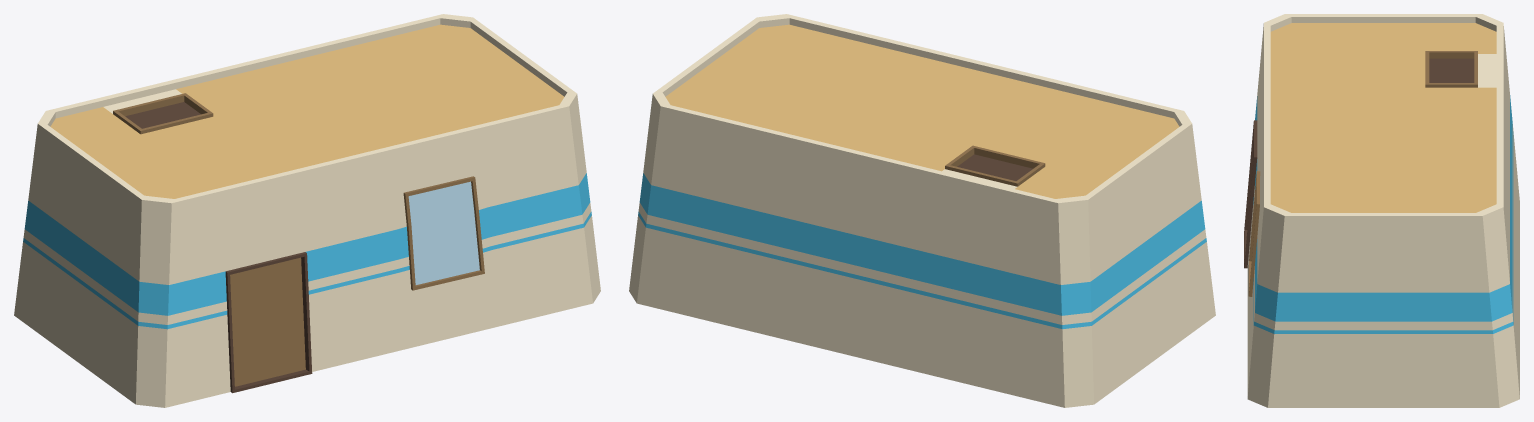
File: House_003.fbx
The picture shows the model from 3 angles, left to right: view 1: azimuth 30°, elevation 25°; view 2: azimuth 150°, elevation 25°; view 3: azimuth 270°, elevation 25°; orthographic projection. The views are drawn at different scales.
Visible parts, largest first — view 1: House.003; view 2: House.003; view 3: House.003.
Part boxes in pixels (box(x1,y1,x2,y2)): House.003: box(14, 14, 600, 407); House.003: box(629, 14, 1215, 407); House.003: box(1244, 14, 1519, 407).
Size of the model in its own units: 1650 by 660 by 891.
